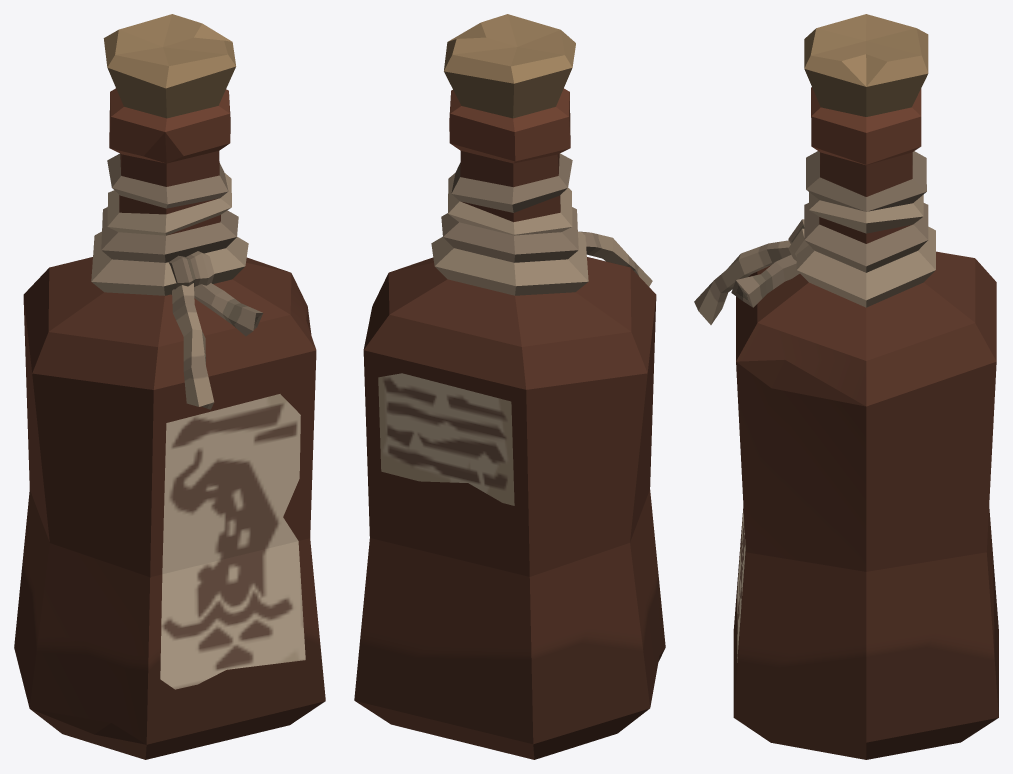
The model's file is SM_Prop_Bottle_03.fbx.
3 views of the same model, side by side, from view 1: azimuth 30°, elevation 25°; view 2: azimuth 150°, elevation 25°; view 3: azimuth 270°, elevation 25° (orthographic).
Parts seen in each view (by area): view 1: SM_Prop_Bottle_03; view 2: SM_Prop_Bottle_03; view 3: SM_Prop_Bottle_03.
Boxes of the visible parts, x1,y1,x2,y2 form: SM_Prop_Bottle_03: (14,14,325,759); SM_Prop_Bottle_03: (354,14,665,759); SM_Prop_Bottle_03: (694,14,998,759).
Size of the model in its own units: 24.21 by 54.89 by 22.75.
